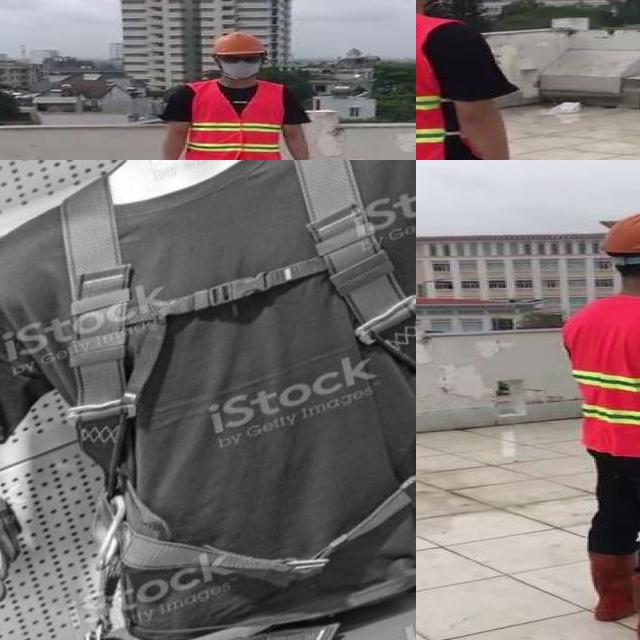Harness: (56, 176, 416, 640)
boots: (584, 552, 636, 625)
face_mask: (218, 52, 264, 78)
glasses: (218, 53, 264, 65)
head_helmet: (595, 209, 640, 257), (208, 31, 269, 56)
person: (549, 204, 640, 640), (152, 32, 319, 160), (416, 0, 531, 160)
vest: (562, 294, 640, 458), (185, 81, 284, 160)
